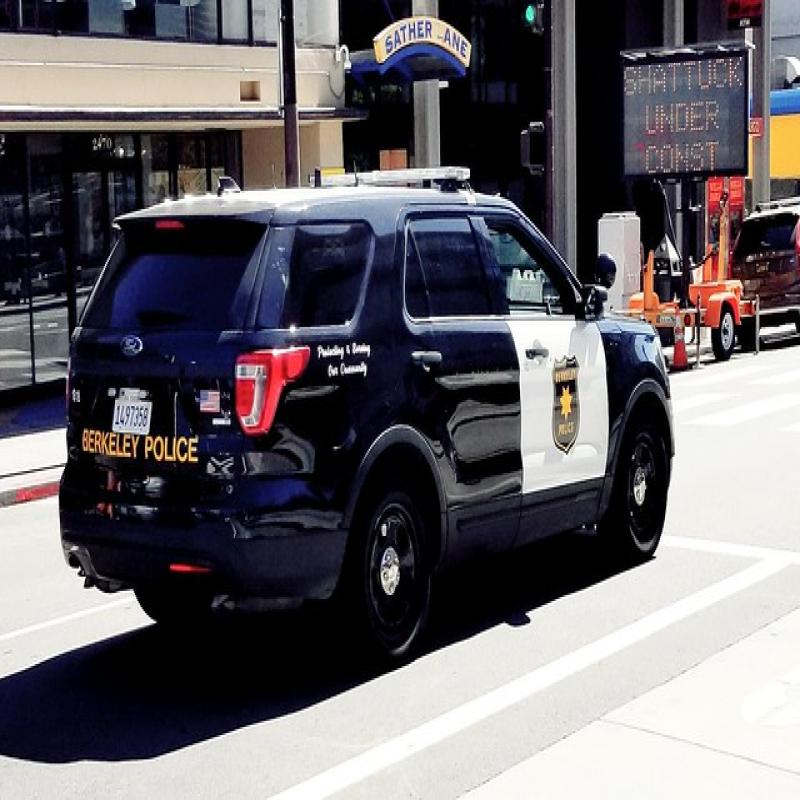AmbulanceSiren: (305, 156, 472, 196)
